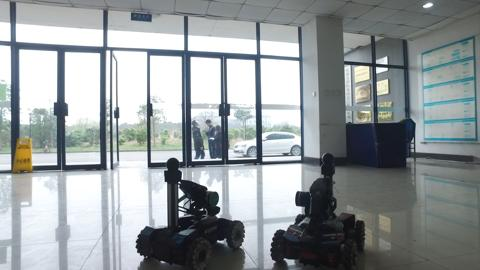chariot: (133, 156, 252, 267), (270, 149, 368, 265)
